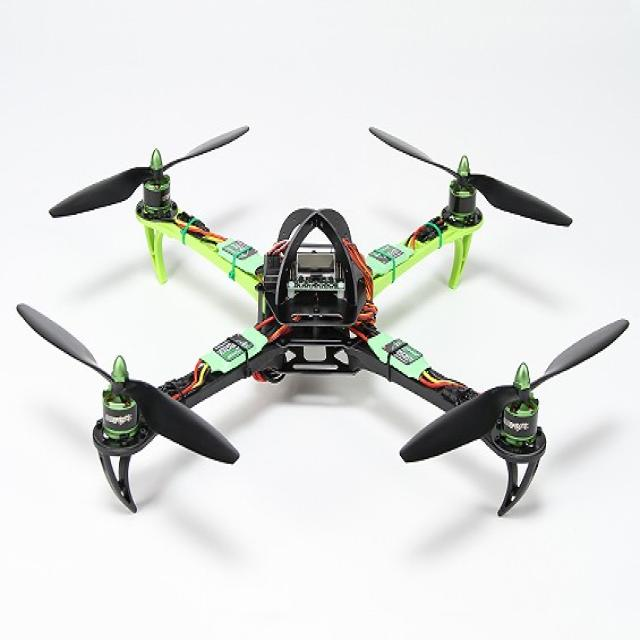drone: (18, 103, 592, 522)
